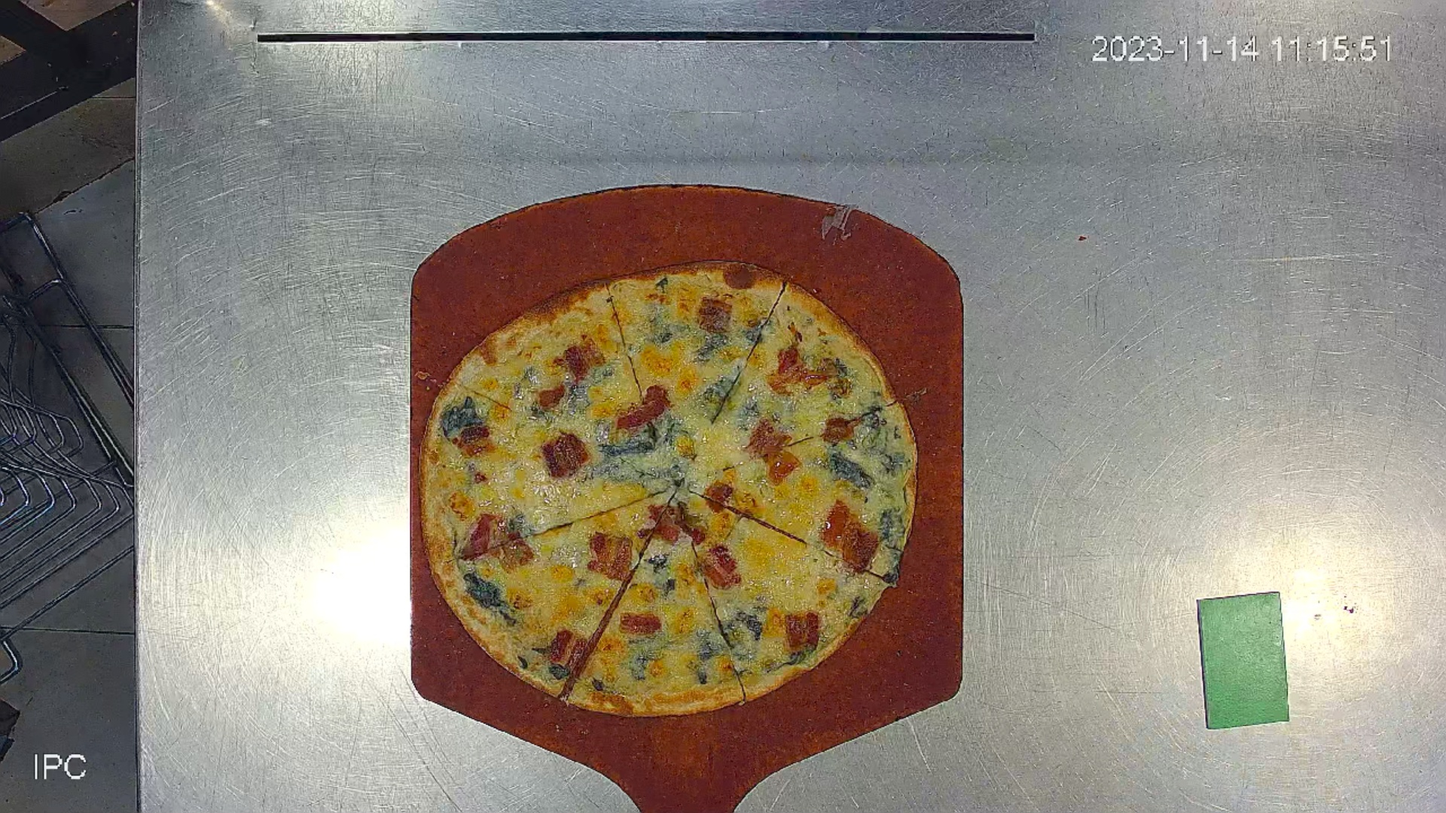pepporoni: (419, 258, 921, 717)
